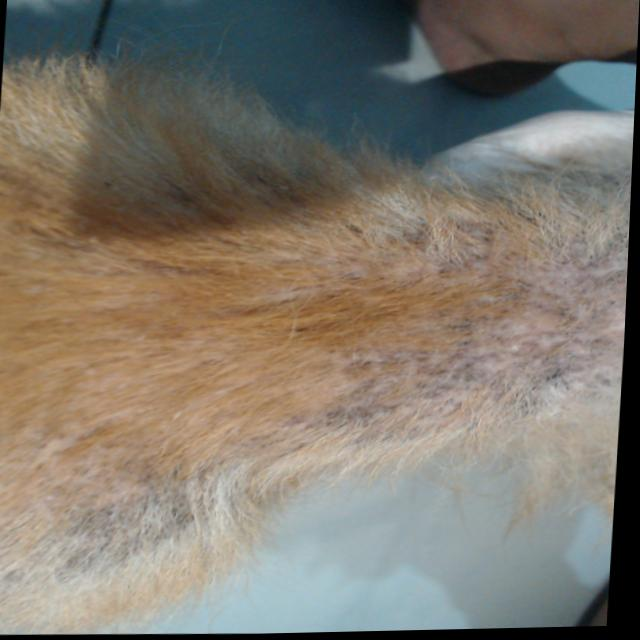demodicosis: (316, 233, 606, 409), (46, 469, 187, 569)
